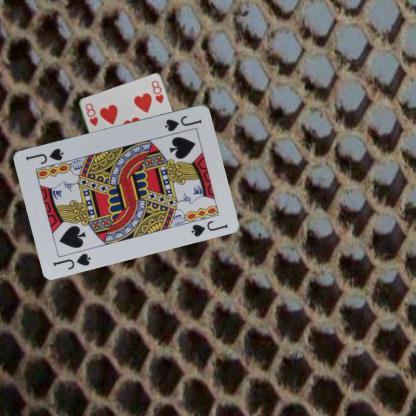8h: (82, 101, 98, 127)
Js: (50, 250, 92, 271), (162, 113, 203, 132)
